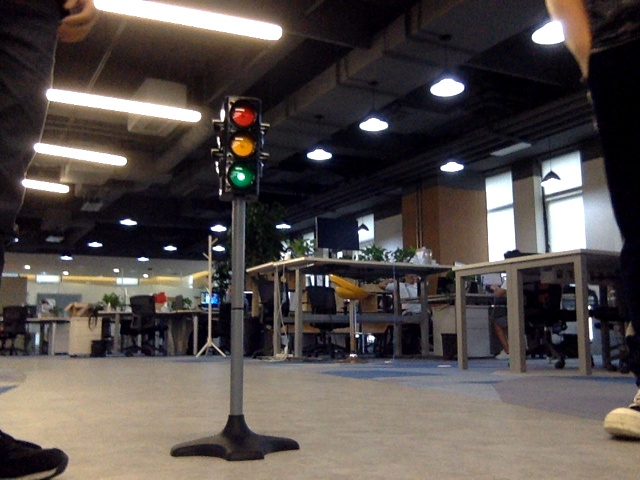green: (228, 99, 256, 189)
